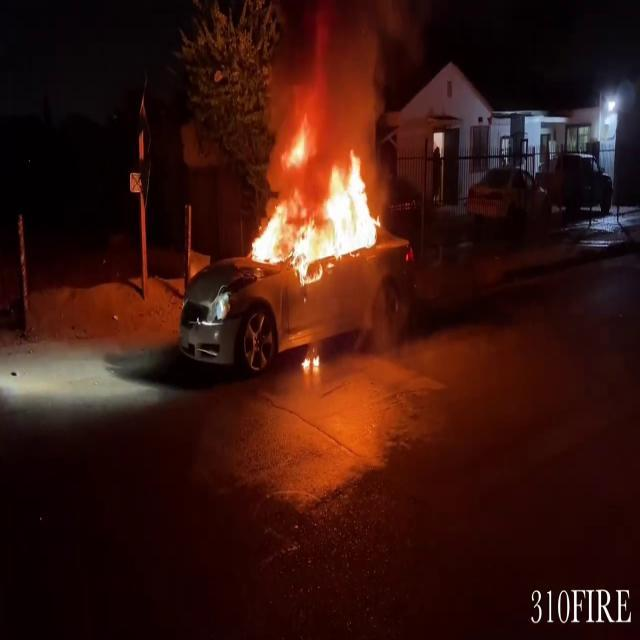Fire: (244, 107, 386, 279), (299, 344, 321, 376)
Smoke: (264, 0, 418, 141)
